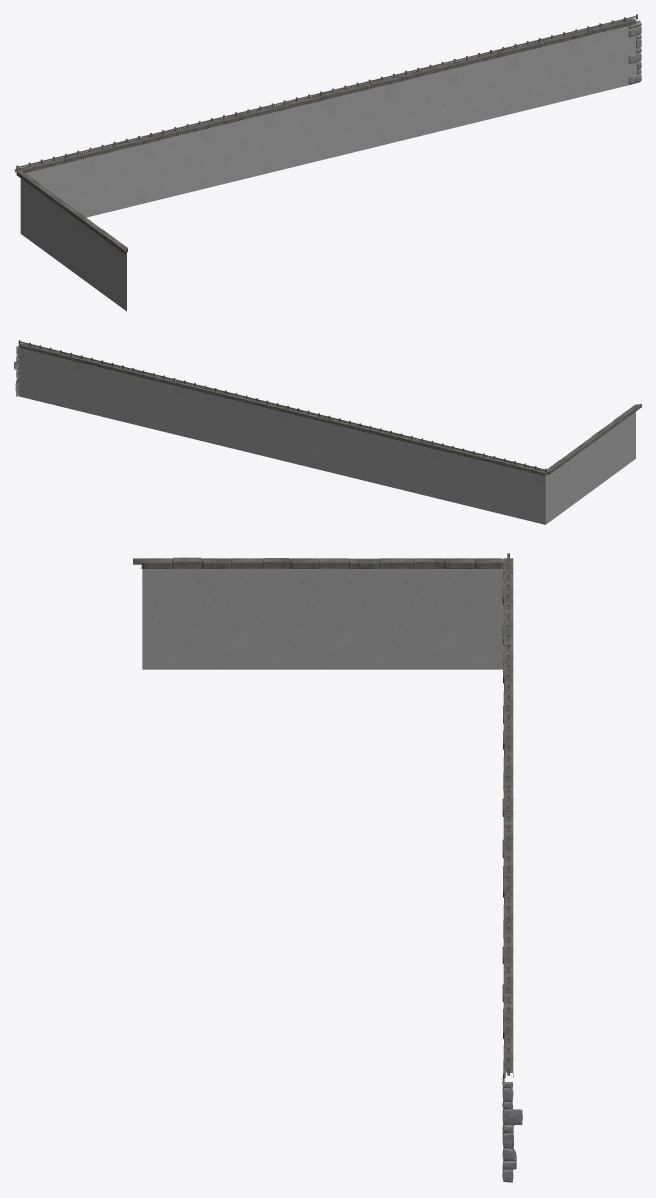
Rendered from SM_ENV_KNVLLG_Wall_05.mo.fbx.
The picture shows the model from 3 angles, top to bottom: view 1: azimuth 30°, elevation 25°; view 2: azimuth 150°, elevation 25°; view 3: azimuth 270°, elevation 25°; orthographic projection. The views are drawn at different scales.
Visible parts, largest first — view 1: SM_ENV_KNVLLG_Wall_05.mo; view 2: SM_ENV_KNVLLG_Wall_05.mo; view 3: SM_ENV_KNVLLG_Wall_05.mo.
Boxes of the visible parts, x1=… form: SM_ENV_KNVLLG_Wall_05.mo: x1=14, y1=14, x2=641, y2=311; SM_ENV_KNVLLG_Wall_05.mo: x1=14, y1=340, x2=641, y2=524; SM_ENV_KNVLLG_Wall_05.mo: x1=133, y1=553, x2=522, y2=1182.
Size of the model in its own units: 94.82 by 9.77 by 30.13.
